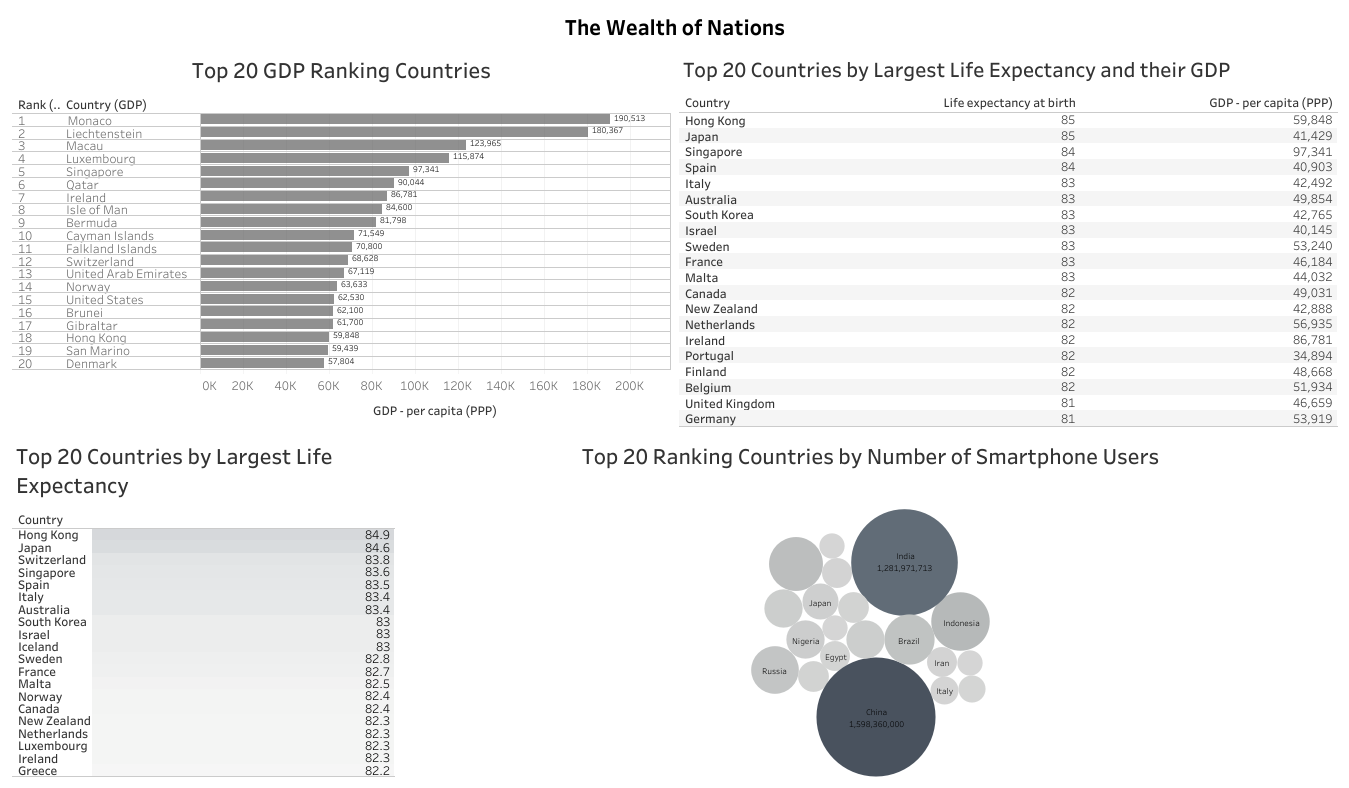

This screenshot's page, from the dashboard's own definition file:
{"tool":"tableau","page":{"name":"The Wealth of Nations","canvas":[1000,1000],"units":"permille","ordinal":0},"visuals":[{"type":"title","box":[5.9,8.1,988.1,52.9]},{"type":"worksheet","title":"Top 20 GDP Ranking Contries  ","mark":"Automatic","rows":["Rank (GDP)","Country (GDP)"],"cols":["GDP - per capita (PPP)"],"box":[5.9,61,494.1,488.5]},{"type":"worksheet","title":"Top 20 Countries by Largest Life Expectancy and their GDP","mark":"Automatic","rows":["Country"],"box":[500,61,494.1,488.5]},{"type":"worksheet","title":"Top 20 Countries by Largest Life Expectancy","mark":"Square","rows":["Country"],"box":[5.9,549.5,289.6,442.4]},{"type":"worksheet","title":"Top 20 Ranking Countries by Number of Smartphone users","mark":"Circle","box":[295.6,549.5,698.5,442.4]}]}

Visuals, with their boxes on the dashboard's canvas, which has no fixed pixel size, in thousandths of its width and height (x1, y1, x2, y2). These are canvas units, not pixel positions in the 1349x788 screenshot, which may show the page scaled, cropped or inside an application window:
title: bbox=[6, 8, 994, 61]
"Top 20 GDP Ranking Contries  " worksheet: bbox=[6, 61, 500, 550]
"Top 20 Countries by Largest Life Expectancy and their GDP" worksheet: bbox=[500, 61, 994, 550]
"Top 20 Countries by Largest Life Expectancy" worksheet (Square marks): bbox=[6, 550, 296, 992]
"Top 20 Ranking Countries by Number of Smartphone users" worksheet (Circle marks): bbox=[296, 550, 994, 992]
